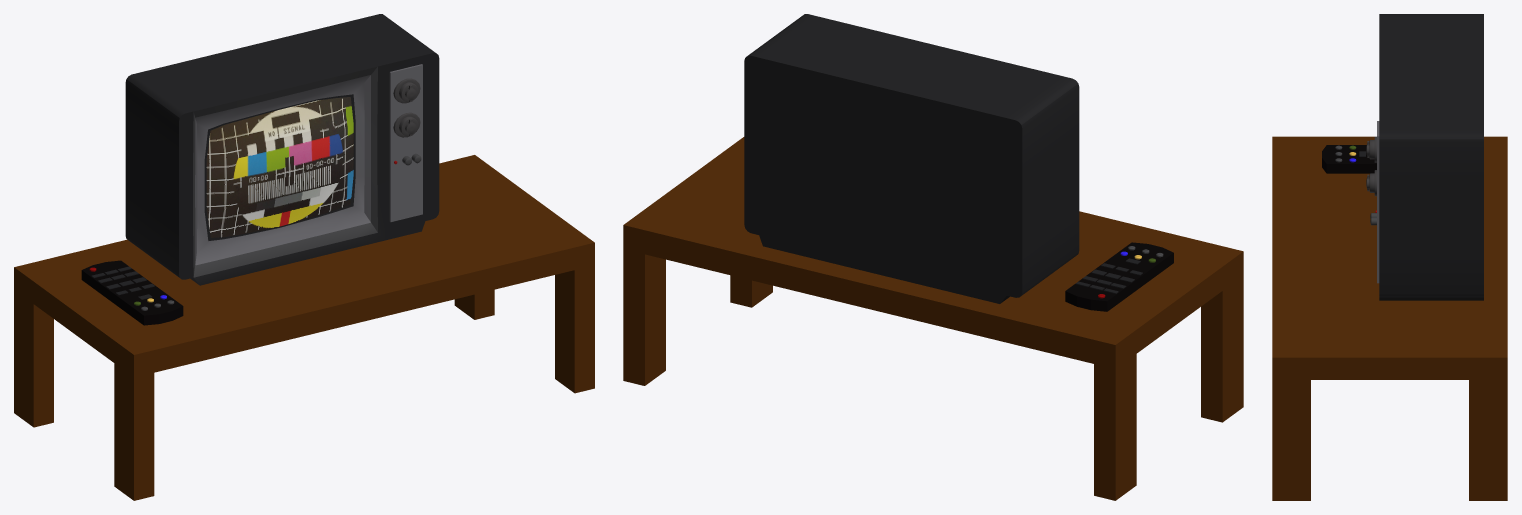
Rendered from Sehpa_Tv_Kumanda.fbx.
The picture shows the model from 3 angles, left to right: view 1: azimuth 30°, elevation 25°; view 2: azimuth 150°, elevation 25°; view 3: azimuth 270°, elevation 25°; orthographic projection. The views are drawn at different scales.
Parts seen in each view (by area): view 1: Tv, Sehpa, Kumanda; view 2: Tv, Sehpa, Kumanda; view 3: Sehpa, Tv, Kumanda.
Part boxes in pixels (x1=…): Tv: x1=125, y1=14, x2=439, y2=285; Sehpa: x1=14, y1=155, x2=594, y2=500; Kumanda: x1=81, y1=260, x2=183, y2=325; Tv: x1=744, y1=14, x2=1079, y2=303; Sehpa: x1=623, y1=137, x2=1243, y2=500; Kumanda: x1=1065, y1=242, x2=1173, y2=311; Sehpa: x1=1272, y1=136, x2=1507, y2=500; Tv: x1=1366, y1=14, x2=1483, y2=300; Kumanda: x1=1322, y1=145, x2=1376, y2=173.
Size of the model in its own units: 283 by 189 by 127.
